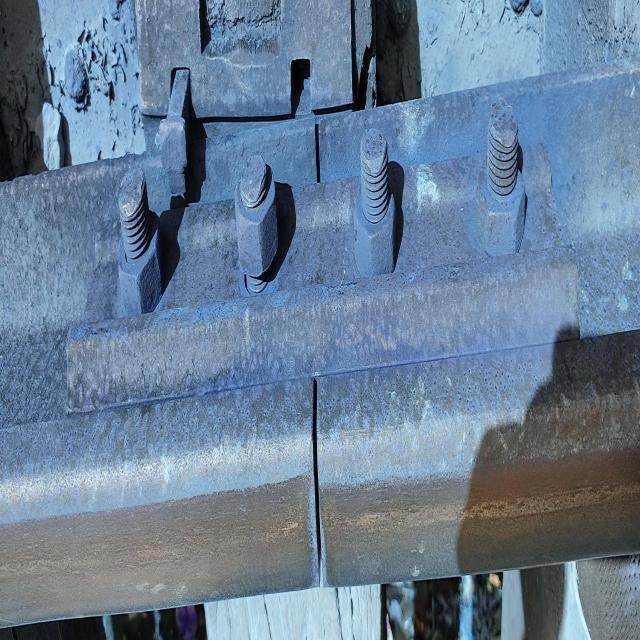Good Joint: (67, 97, 579, 413)
